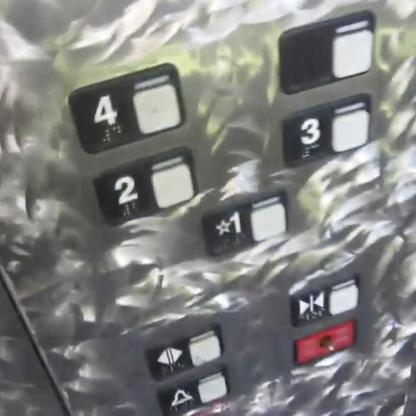2: (90, 142, 200, 230)
3: (279, 90, 375, 170)
4: (65, 59, 187, 156)
alarm: (156, 364, 232, 416)
bt_switch: (291, 317, 360, 370)
close: (288, 272, 363, 329)
empty: (275, 6, 377, 96)
open: (143, 322, 225, 382)
s1: (198, 184, 290, 260)
